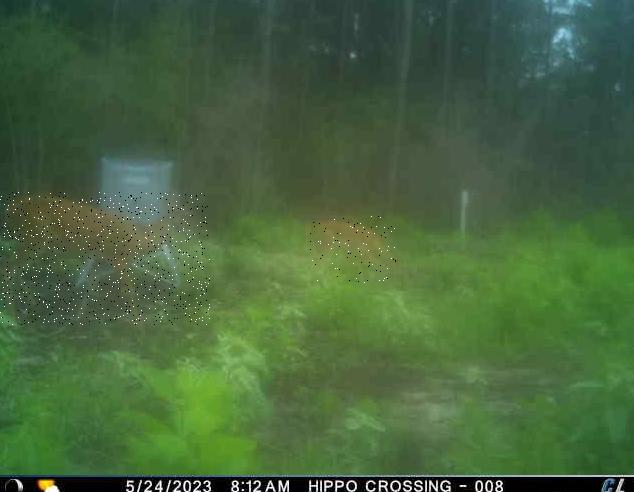Deer: (0, 192, 210, 325), (309, 217, 396, 284)
